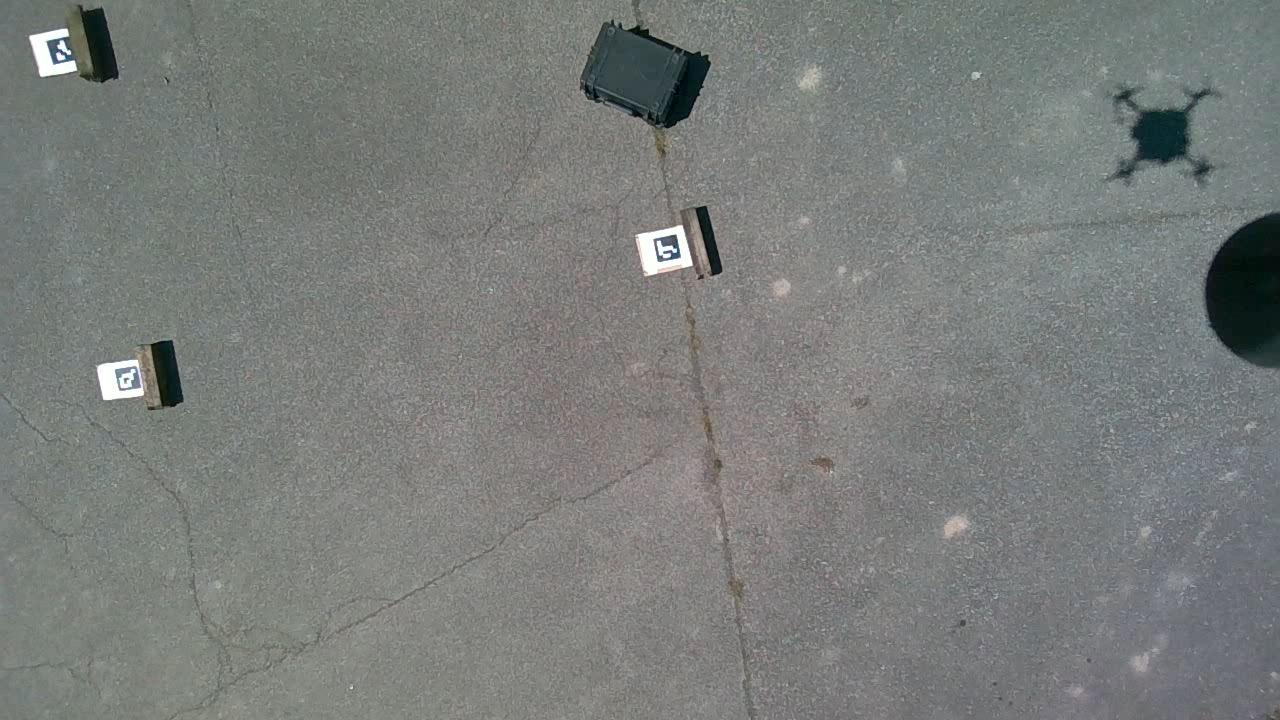rako: (577, 19, 694, 130)
